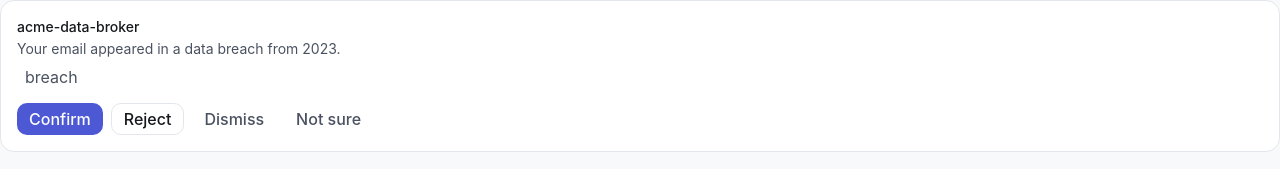
it: CandidateCard — post-action transitions › CONFIRM success: pending → Confirmed badge + View asset link + no action buttons
The image size is (1280, 169).
Click the button "Confirm".
click(60, 119)  # box left=17, top=103, right=103, bottom=135
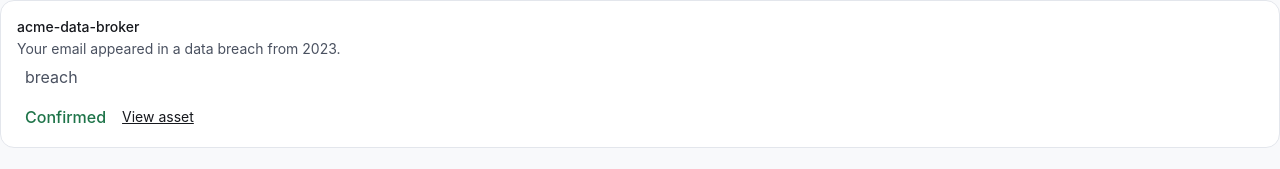
Now the text "Confirmed" is shown, box left=25, top=107, right=106, bottom=127
Now no buttons are shown
